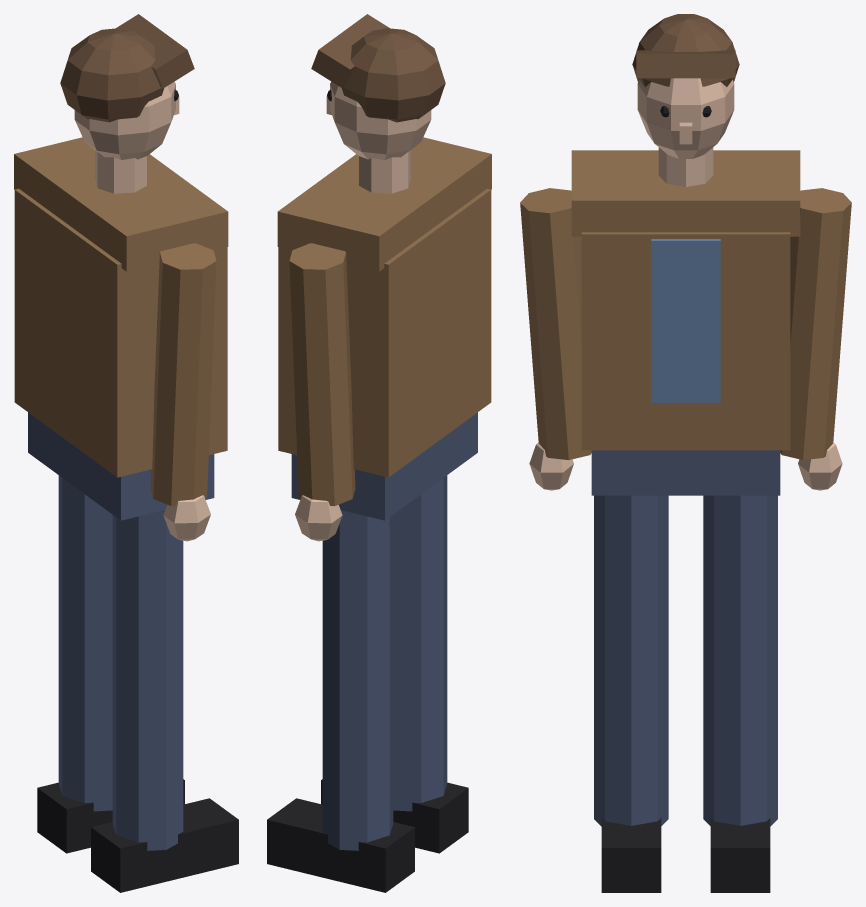
Rendered from SM_Ivo.fbx.
3 renders of one model, left to right at view 1: azimuth 30°, elevation 25°; view 2: azimuth 150°, elevation 25°; view 3: azimuth 270°, elevation 25°, orthographic.
Visible parts, largest first — view 1: SM_Ivo; view 2: SM_Ivo; view 3: SM_Ivo.
Part boxes in pixels (x1,y1,x2,y2): SM_Ivo: (14,14,238,892); SM_Ivo: (267,14,491,892); SM_Ivo: (520,14,851,892).
Size of the model in its own units: 31 by 185 by 66.81.
